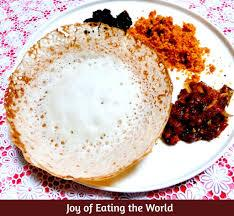Hoppers: (13, 29, 161, 185)
